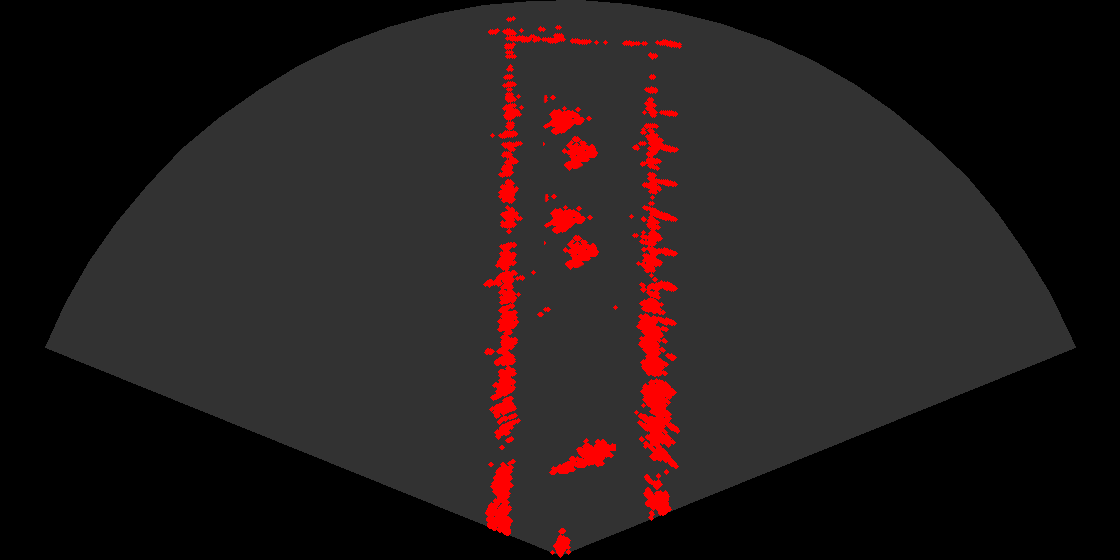cage: (544, 194, 607, 278), (543, 95, 606, 179)
frogman: (548, 432, 616, 479)
